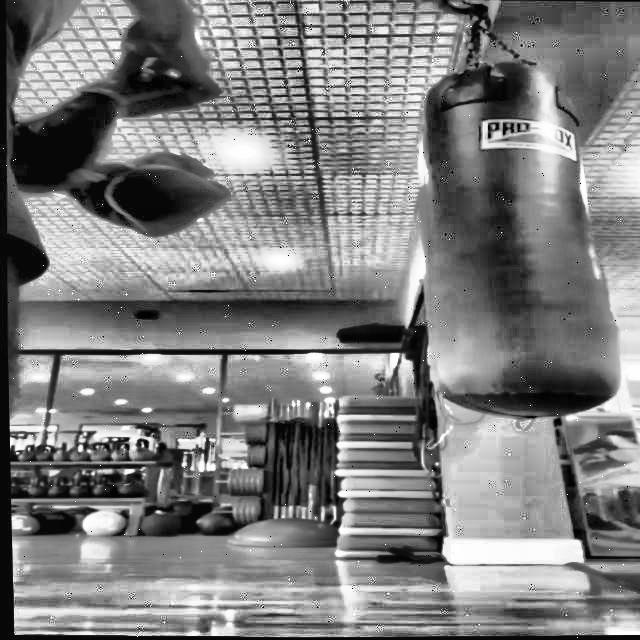boxing-bag: (416, 0, 624, 425)
